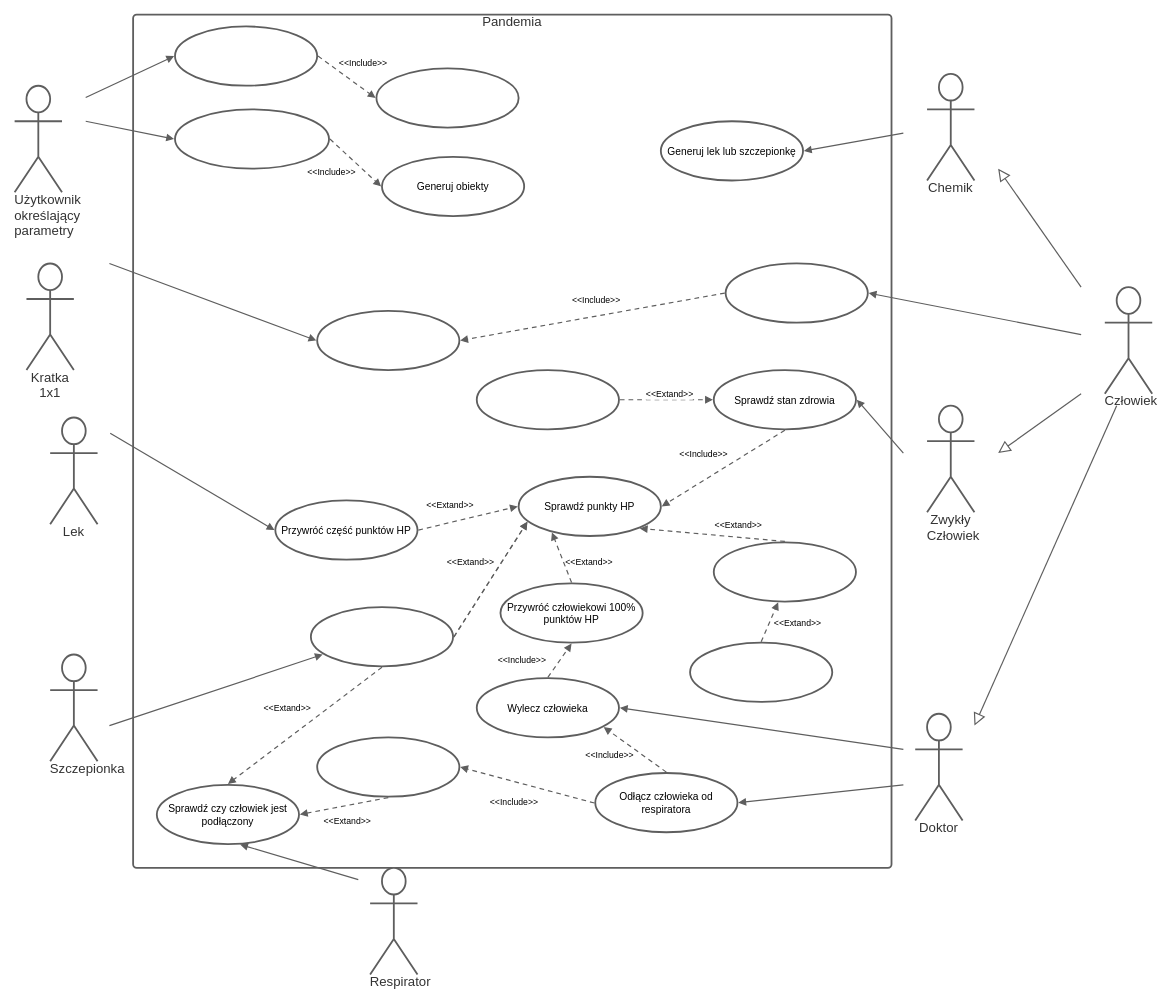
The diagram is 1170 pixels wide and 1004 high, and some of its shapes have lost their labels. The shapes that lost their labels are listed below. From the top down, each one's centre as x and y in pixels, then its label:
At (x=246, y=55): "Ustal wymiary dwuwymiarowej planszy".
At (x=447, y=97): "Generuj planszę z kratkami".
At (x=252, y=138): "Określ liczbę obiektów każdego typu".
At (x=796, y=292): "Wykonaj ruch".
At (x=388, y=340): "Opisz / Sprawdź stan kratki".
At (x=548, y=399): "Zarażaj innych ludzi".
At (x=785, y=571): "Obniż punkty HP".
At (x=382, y=636): "Podtrzymuj punkty HP człowieka".
At (x=761, y=671): "Odbierz życie".
At (x=388, y=766): "Zmień status podłączony / niepodłączony".
